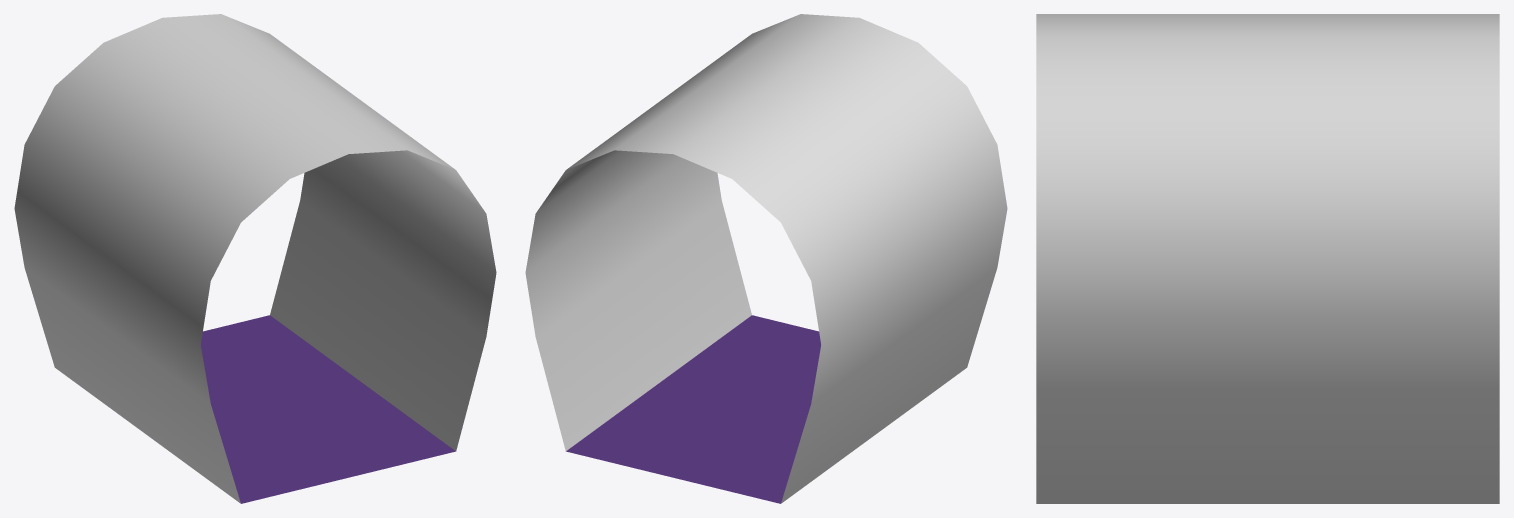
File: corridor_caveFB.fbx
The picture shows the model from 3 angles, left to right: view 1: azimuth 30°, elevation 25°; view 2: azimuth 150°, elevation 25°; view 3: azimuth 270°, elevation 25°; orthographic projection. The views are drawn at different scales.
Parts seen in each view (by area): view 1: FB; view 2: FB; view 3: FB.
Part boxes in pixels (x1,y1,x2,y2): FB: [14, 14, 496, 503]; FB: [525, 14, 1007, 503]; FB: [1036, 14, 1499, 503].
Bounding box in the file's own units: 183 × 192 × 200.
